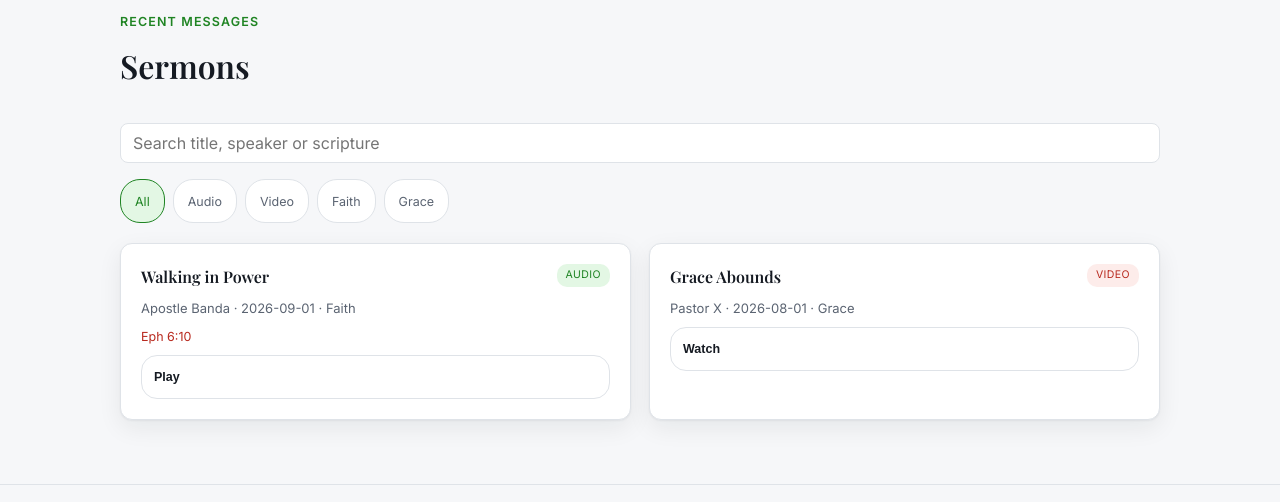
Test: SermonsPage URL filter state › clicking the Audio chip filters the results
Expected: the link "Walking in Power" is shown, x1=141 y1=266 x2=269 y2=287
Click the button "Audio".
click(205, 201)  # box x1=173 y1=179 x2=237 y2=223
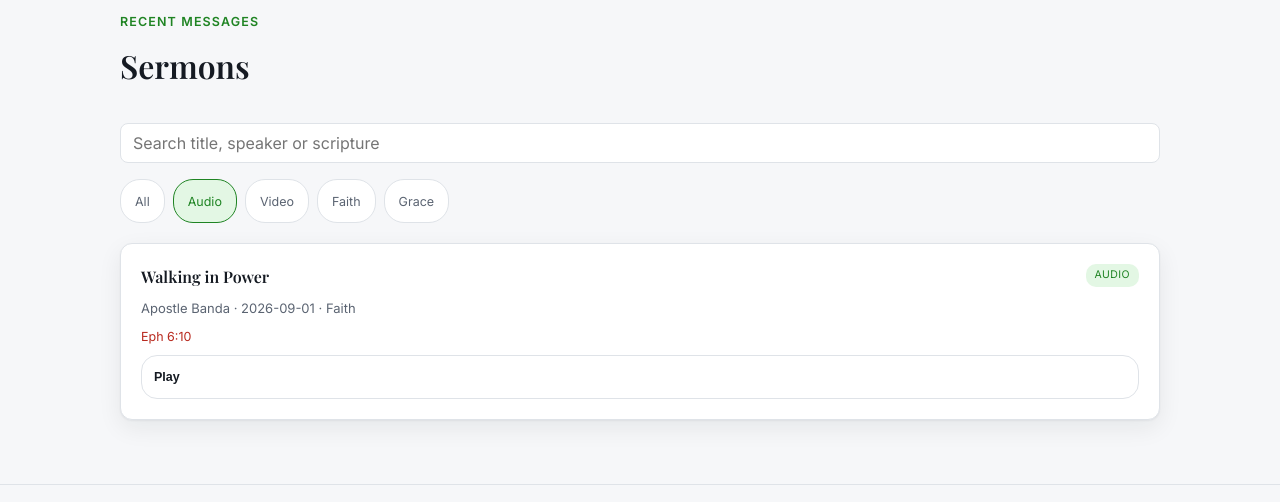
Expected: the link "Walking in Power" is shown, x1=141 y1=266 x2=269 y2=287
Expected: the link "Grace Abounds" is gone
